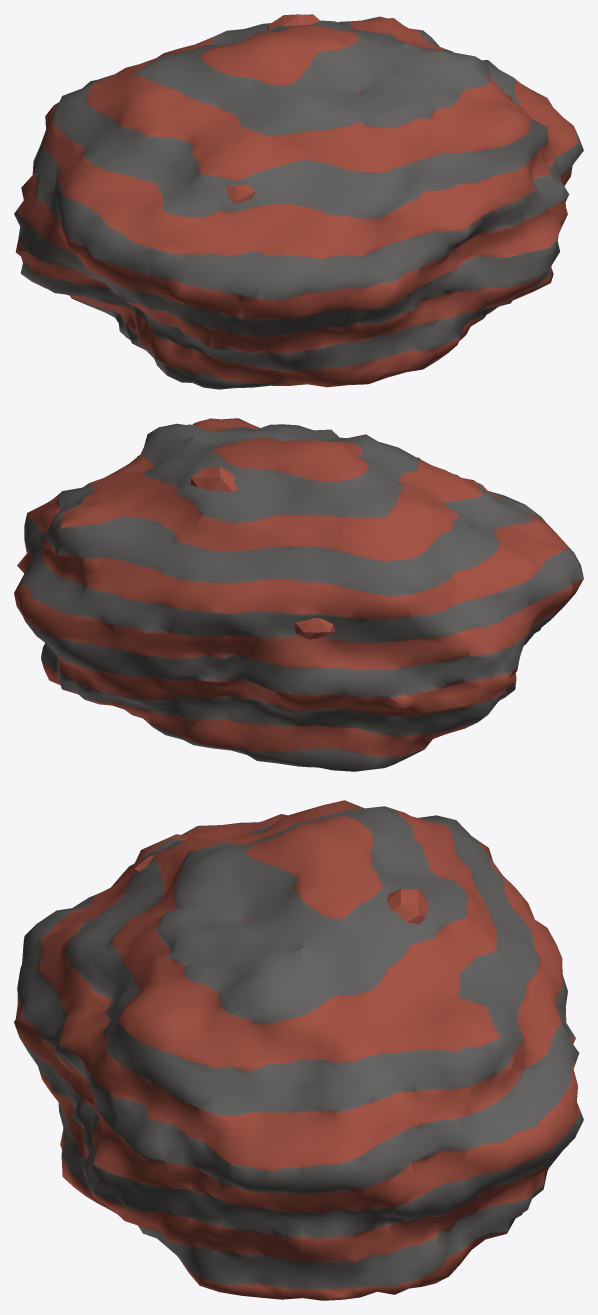
The model's file is banded_iron_deep.glb.
3 views of the same model, one above another, from view 1: azimuth 30°, elevation 25°; view 2: azimuth 150°, elevation 25°; view 3: azimuth 270°, elevation 25° (orthographic). The views are drawn at different scales.
Visible parts, largest first — view 1: banded_iron_deep; view 2: banded_iron_deep; view 3: banded_iron_deep.
Boxes of the visible parts, x1,y1,x2,y2 form: banded_iron_deep: (14,14,583,389); banded_iron_deep: (14,418,583,771); banded_iron_deep: (14,800,583,1300).
Bounding box in the file's own units: 2.03 × 0.9693 × 1.59.
